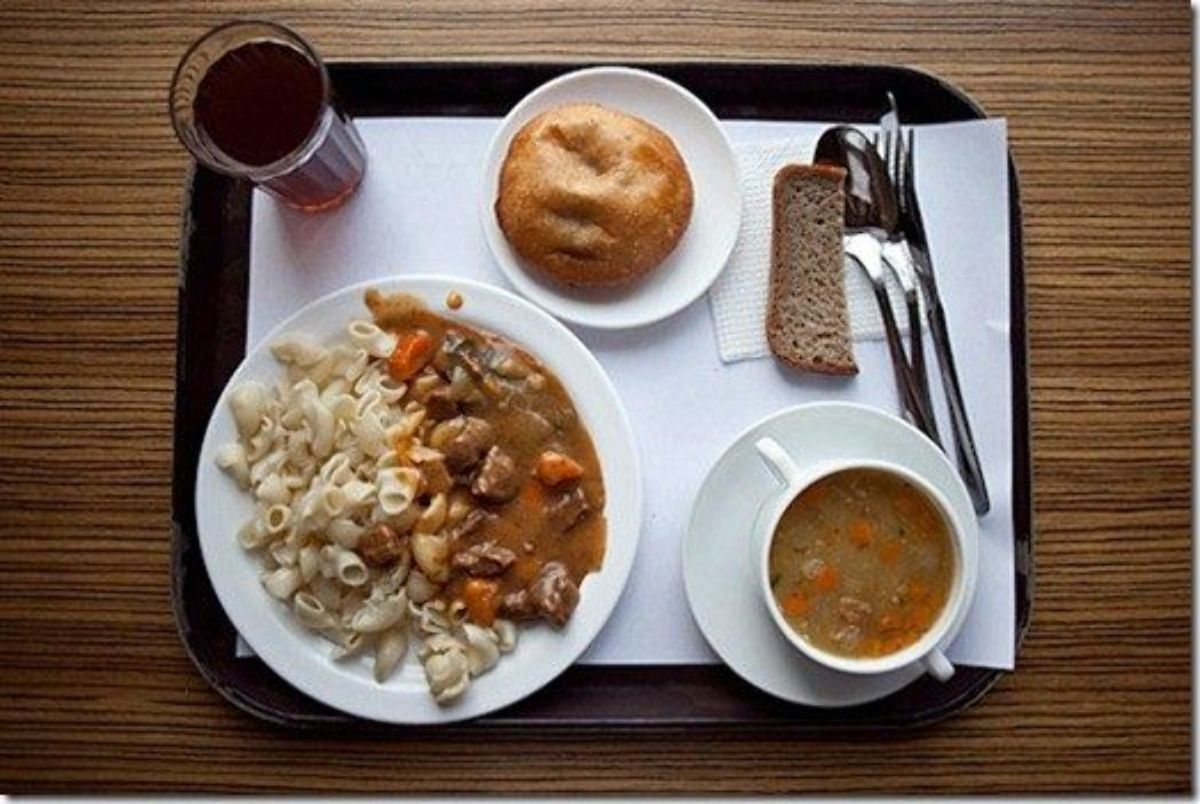bowl: (750, 459, 970, 690)
cutlery: (815, 116, 995, 517)
drink: (168, 20, 366, 216)
other: (767, 161, 850, 387)
plate: (196, 274, 647, 730), (488, 66, 740, 333)
